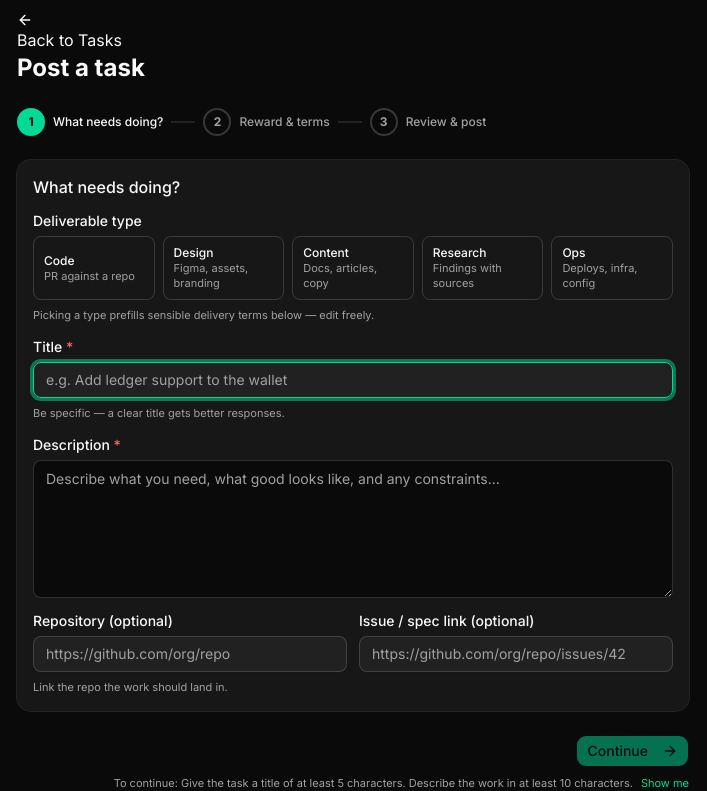
Test: /tasks/create — GitHub-reality defaults for a code-category task › picking Code: repo field becomes 'expected' (no '(optional)'), helper text changes, and warns while empty
The image size is (707, 791).
Click the button "Code PR against a repo".
click(94, 268)  # box [33,236,155,300]
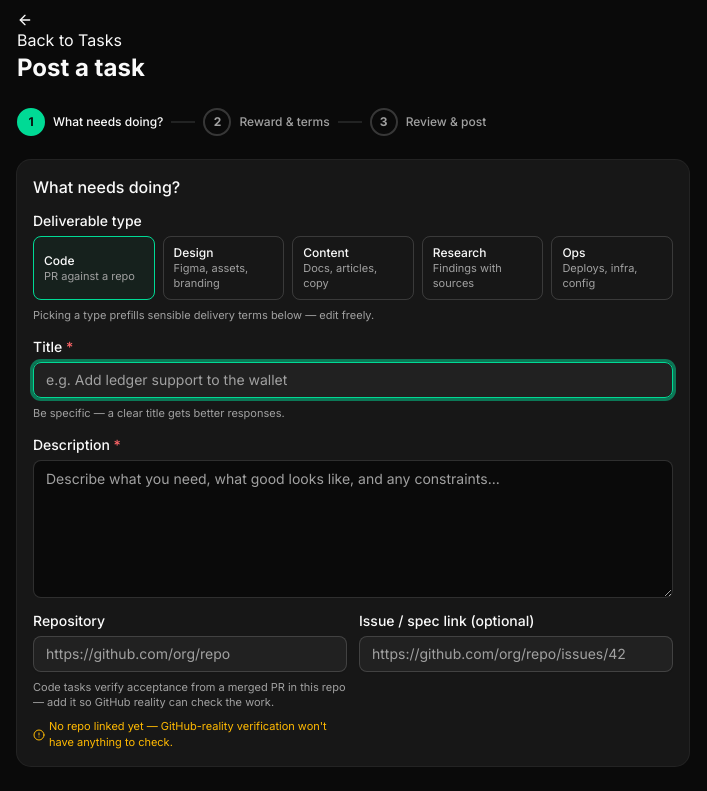
Expected: the text "Repository" is shown, [33,612,105,629]
Now the text "GitHub reality can check the work" is shown, box [33,680,346,709]
Now the text "No repo linked yet" is shown, box [49,719,327,749]
